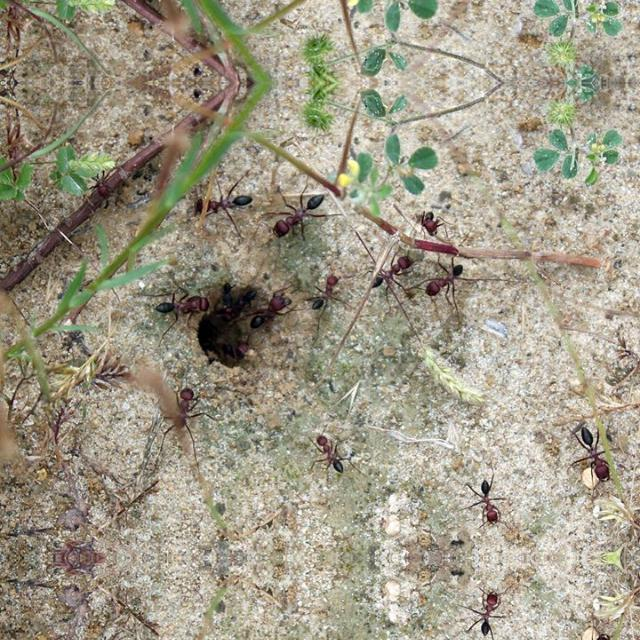Cataglyphis: (562, 418, 620, 488), (264, 188, 332, 242), (160, 378, 213, 438), (462, 472, 512, 530), (462, 584, 511, 640), (417, 258, 475, 304), (307, 428, 359, 478), (188, 184, 258, 220), (362, 248, 414, 290), (148, 288, 214, 320), (248, 288, 296, 329), (213, 281, 259, 323), (307, 270, 349, 314), (416, 207, 449, 237), (85, 167, 116, 197)
